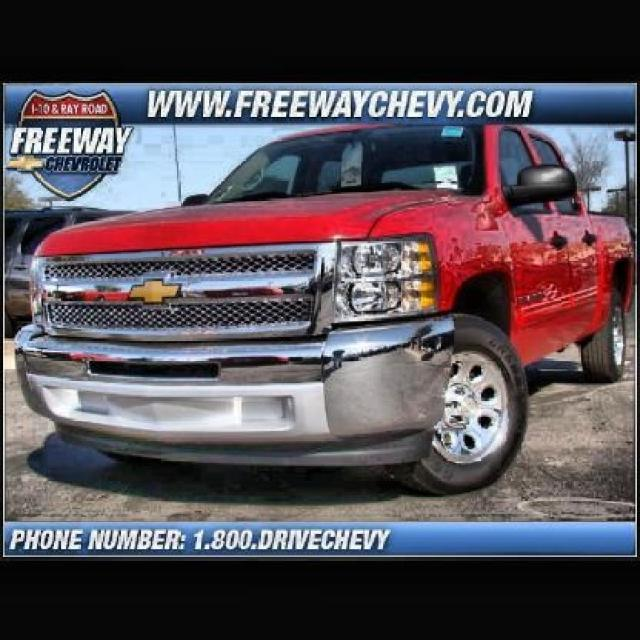red: (15, 127, 640, 430)
